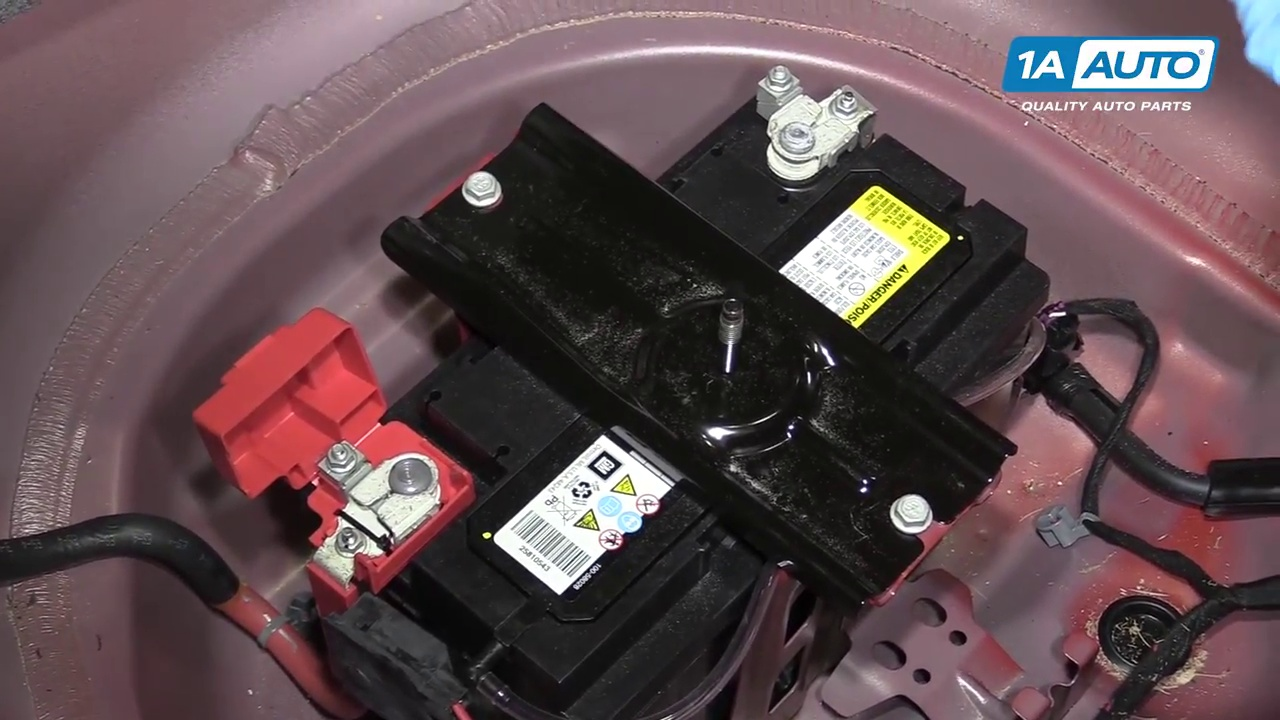battery: (311, 72, 1031, 703)
neg_connected: (718, 71, 899, 199)
pos_connected: (224, 348, 474, 617)
